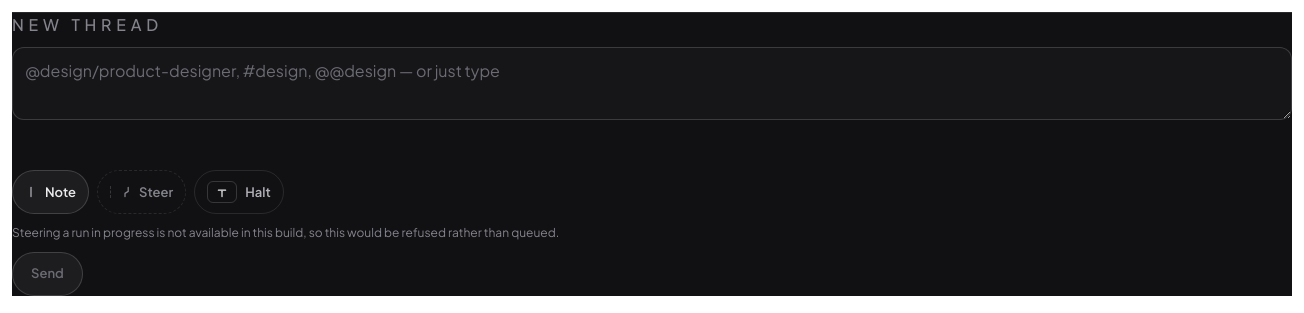
it: the preview › says "at least" for # rather than a flat count
The image size is (1304, 313).
Step 1. Type "#sales look" into the text box → (652, 84), box [12,47,1292,120]
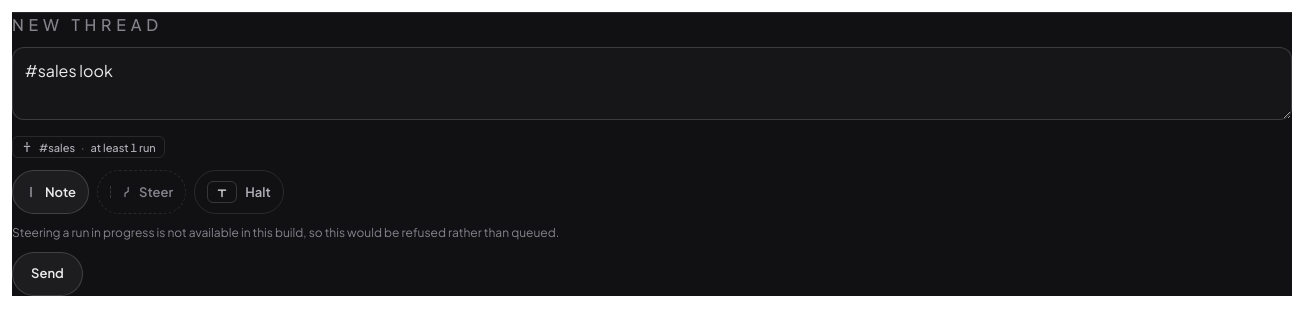
Expected: the text "at least 1 run" is shown, [91,142,156,153]
